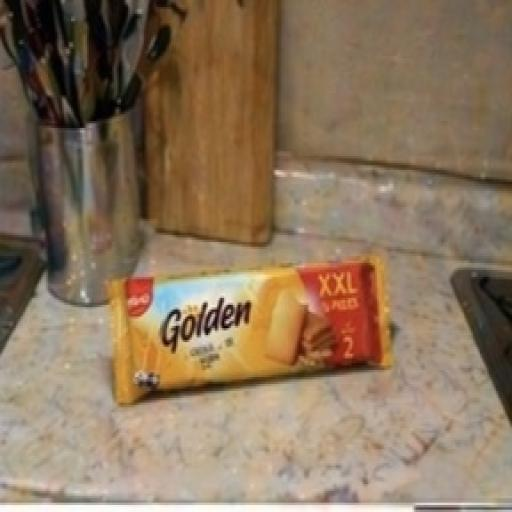golden: (74, 206, 425, 456)
